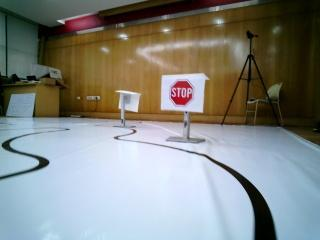stop: (163, 79, 201, 112)
